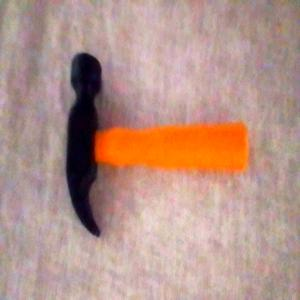martelo: (66, 49, 248, 235)
